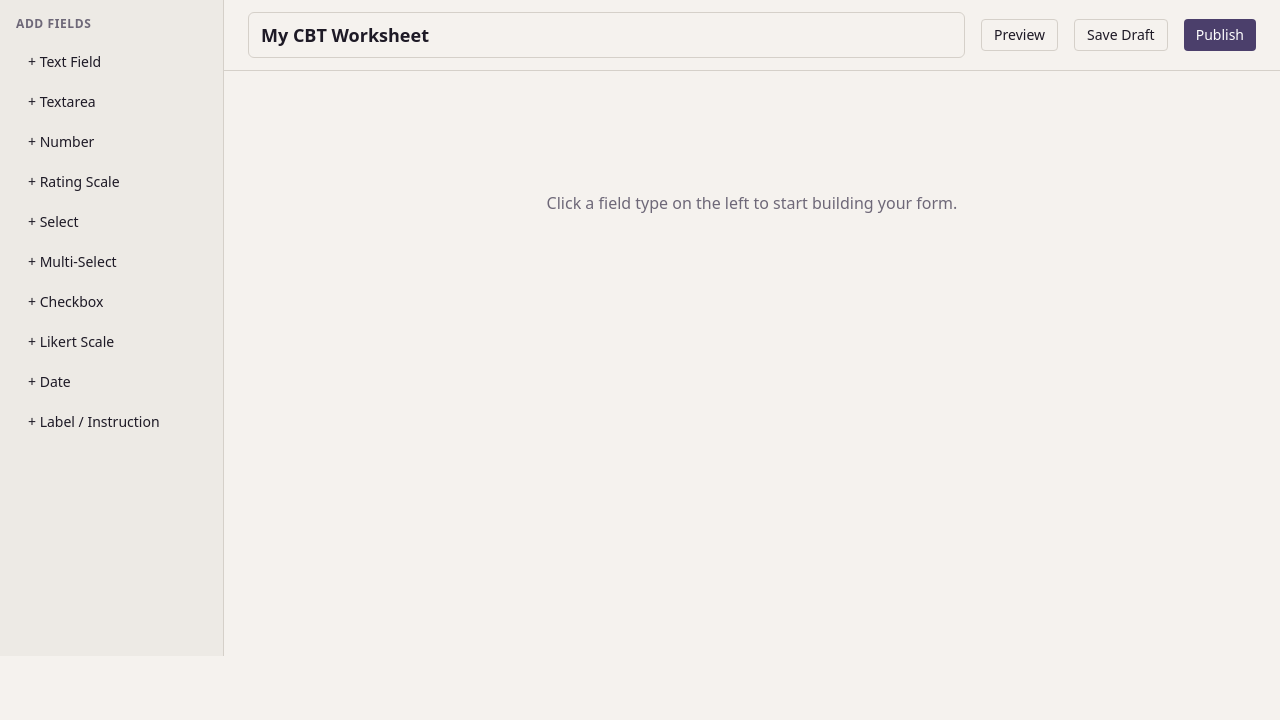
Test: Worksheet builder page › preview mode with no fields shows empty state message
This screenshot has width=1280, height=720.
Click the button "Preview" at (1020, 35), box [981,19,1058,51]
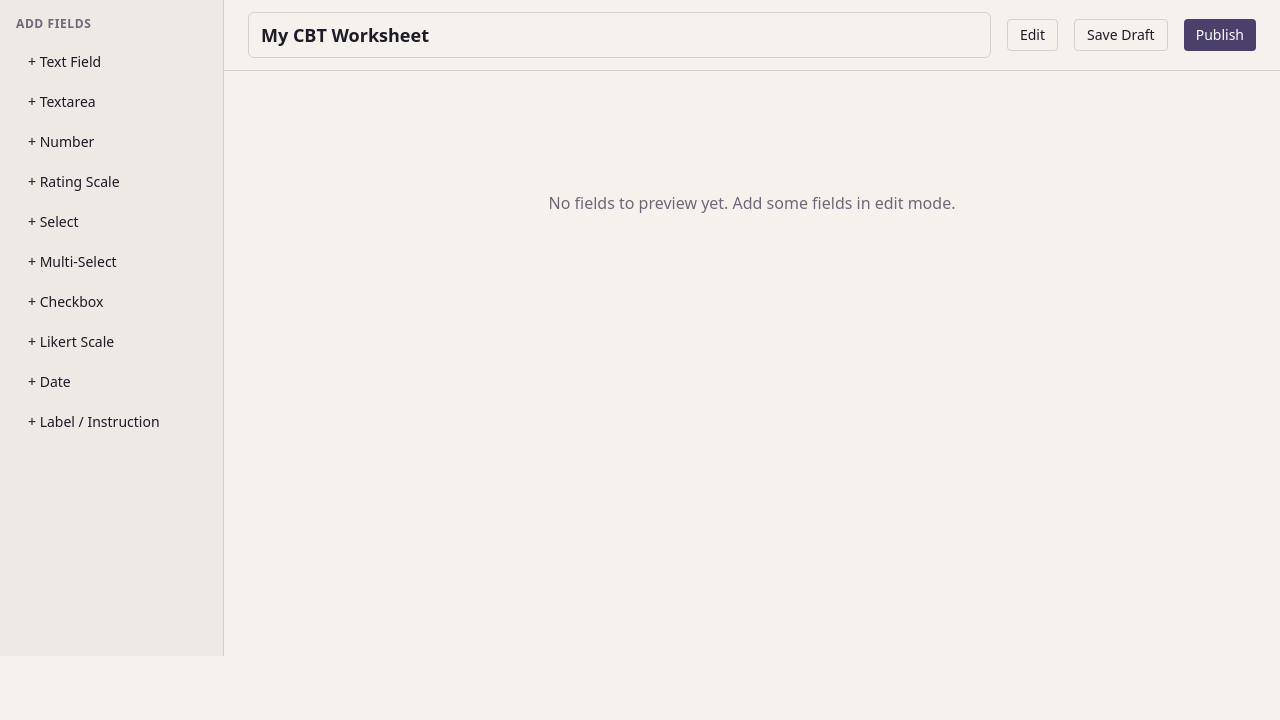
Now the text "No fields to preview yet. Add some fields in edit mode." is shown, box [548,192,955,214]
